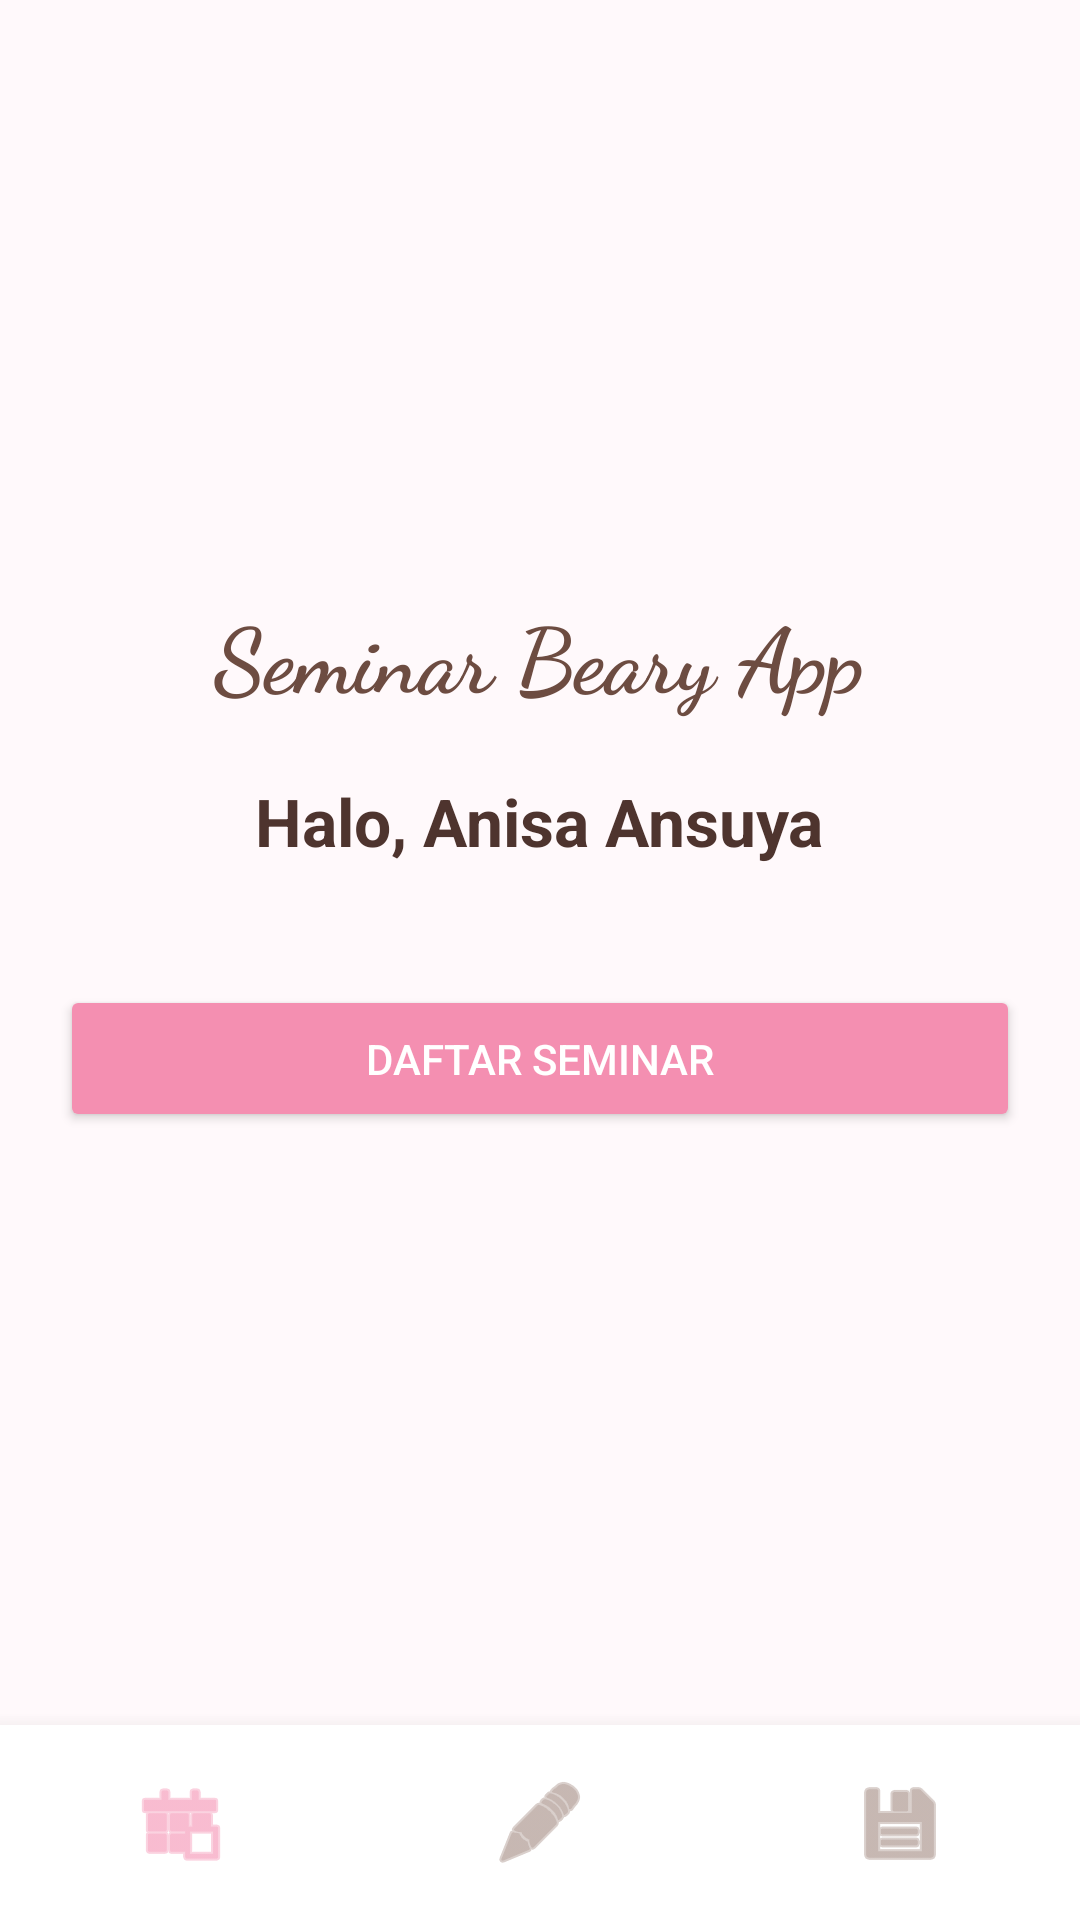

Locate icon controls on the screen. Image size 1080x1920, boxes as (x1, y1, x2, y2).
edit: (499, 1782, 580, 1863)
save: (864, 1787, 936, 1860)
today: (142, 1788, 220, 1861)
